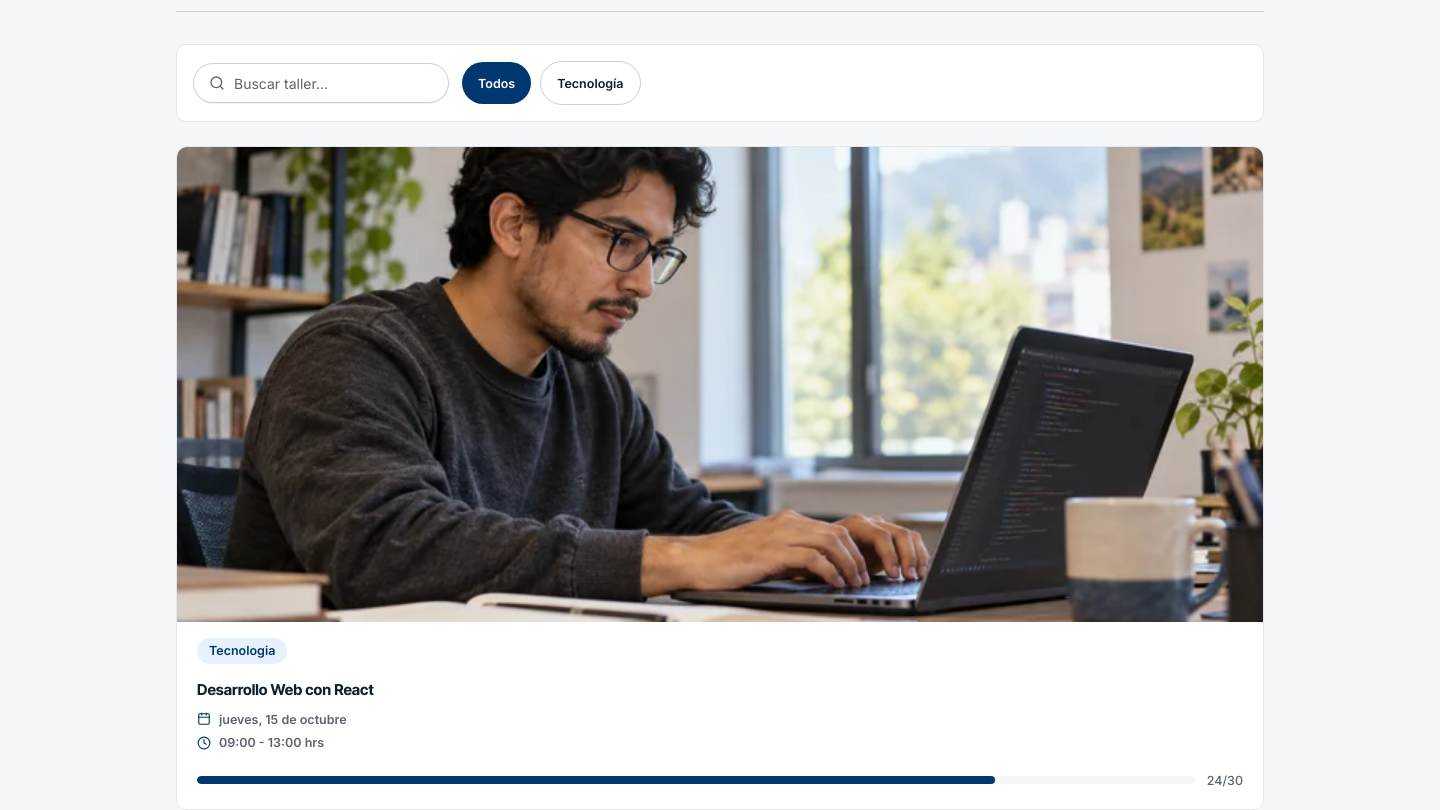
Test: EventsView › closes the selected workshop using heading
(page scrolled)
Click the button "Desarrollo Web con React" at (720, 478), box [176,146,1264,809]
(page scrolled)
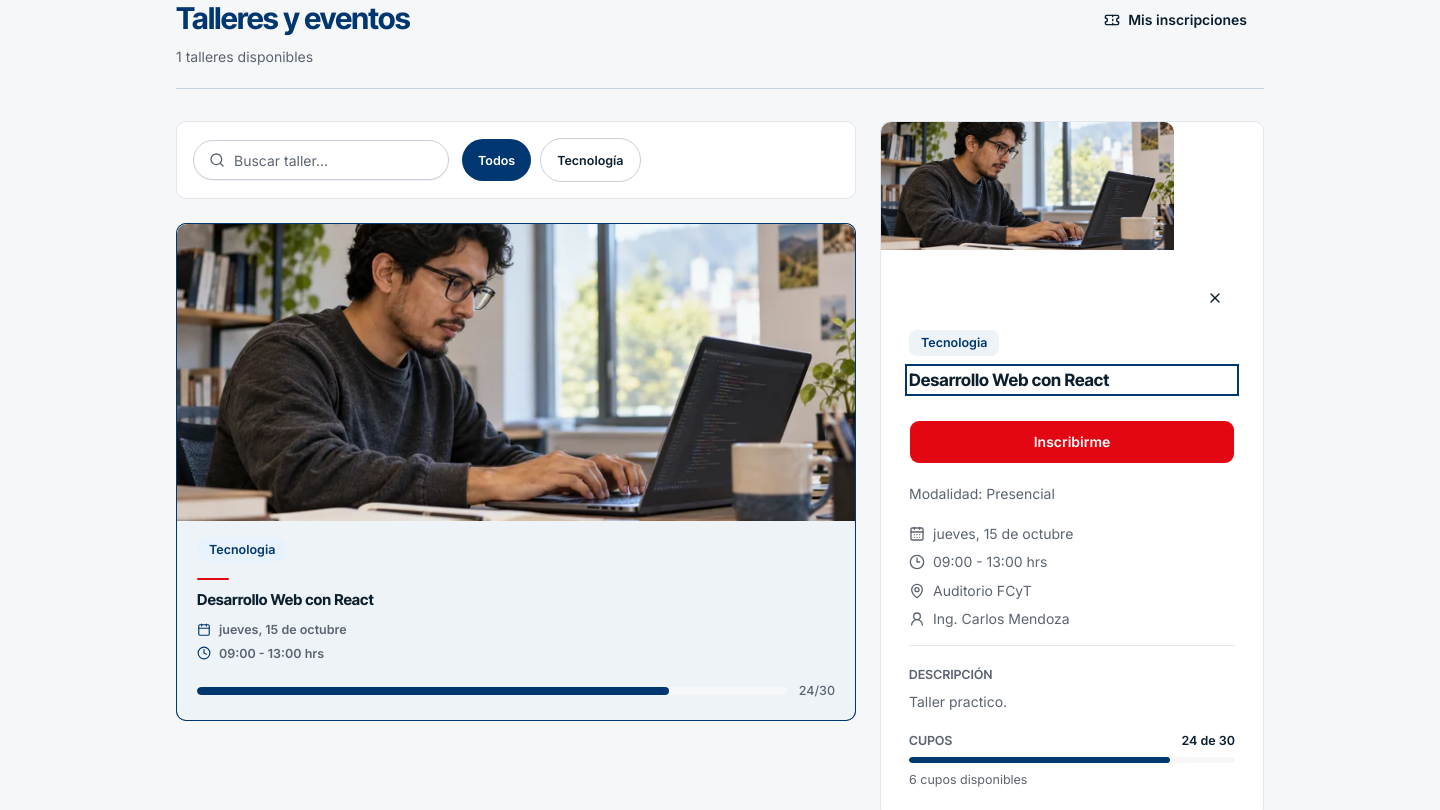
Check: the button "Inscribirme" is shown, box [909,420,1235,464]
Click the heading "Talleres y eventos" at (293, 19), box [176,0,410,38]
(page scrolled)
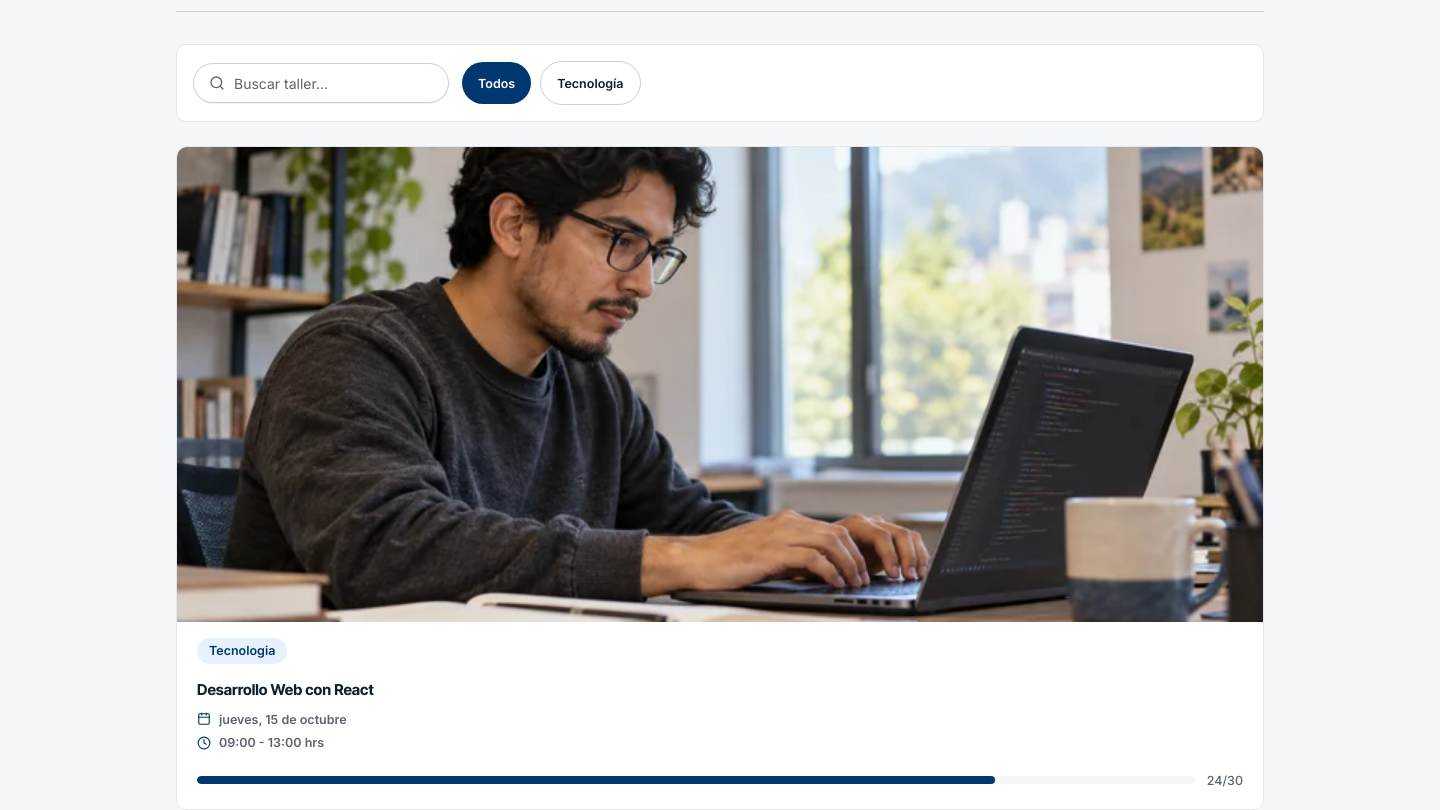
Check: the button "Inscribirme" is gone
